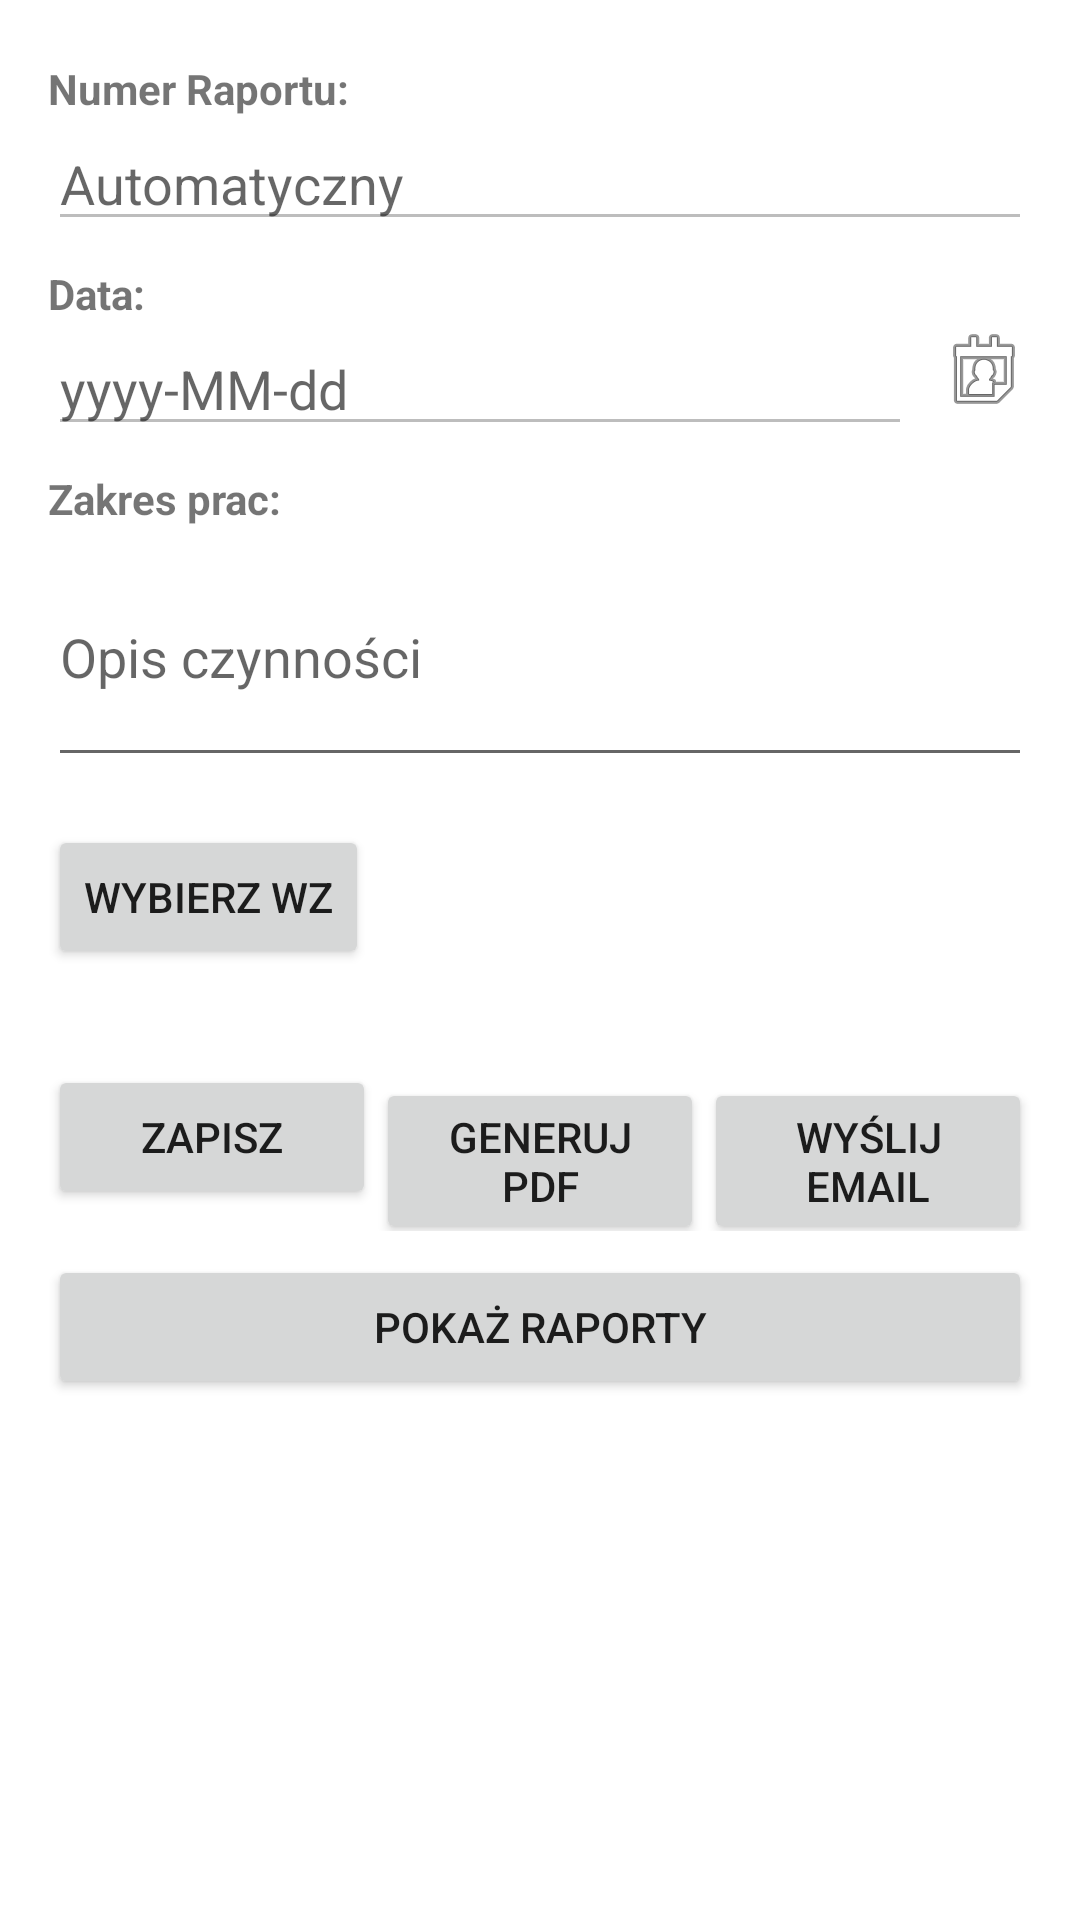

Icon click points for this 1080 x 1920 phone screenshot, format [x,y]:
Wybierz datę: [984,369]
